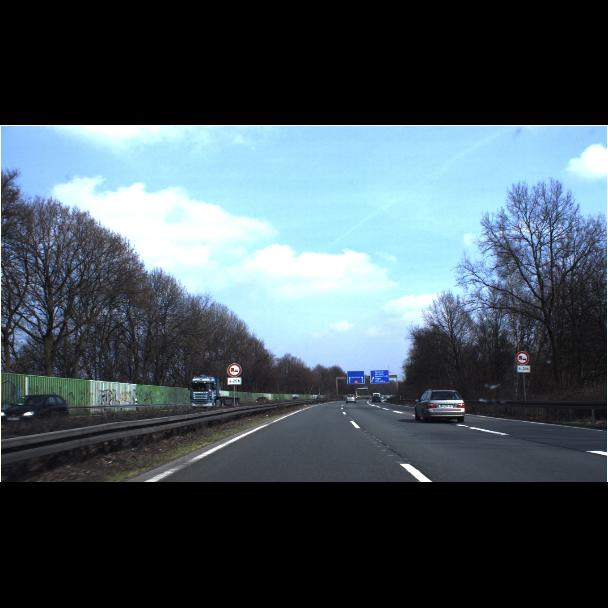no overtaking (trucks): (227, 351, 529, 378)
